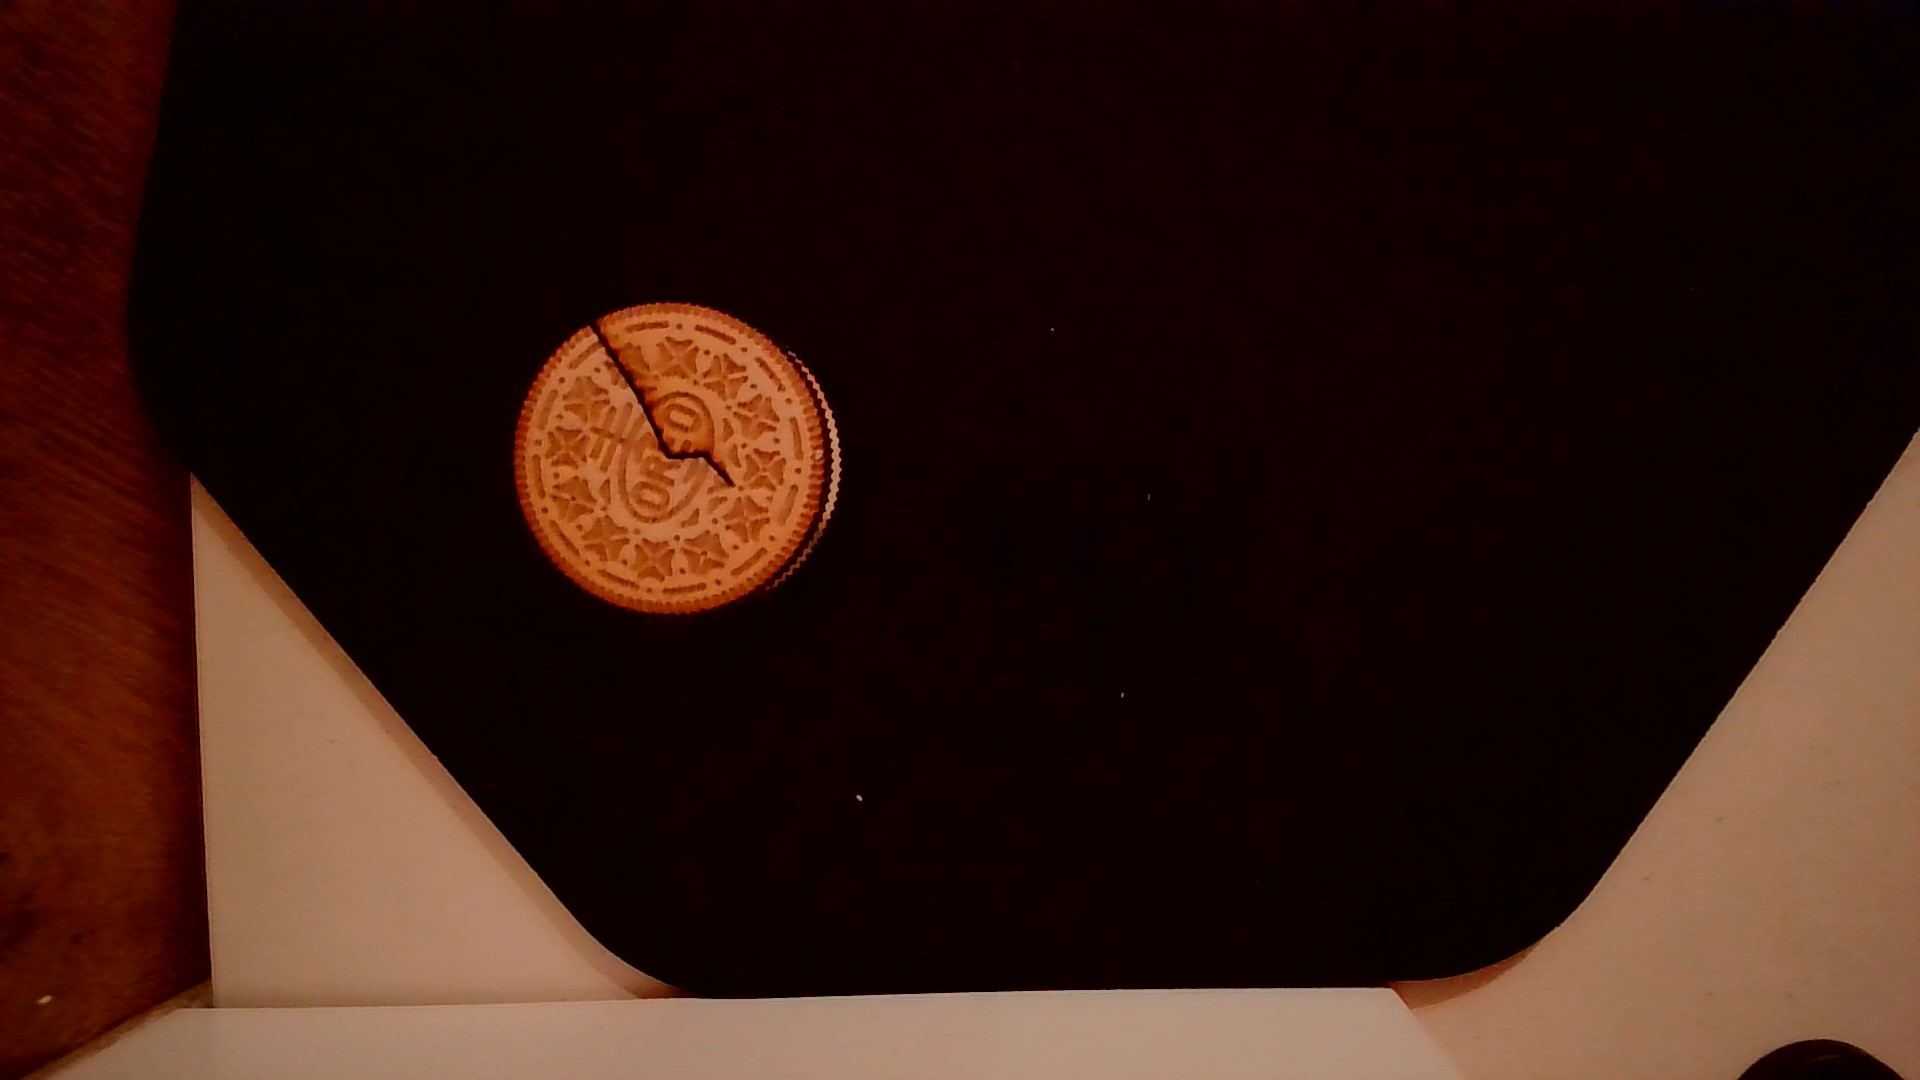Fissure: (578, 315, 746, 495)
Oréo: (506, 290, 847, 620)
